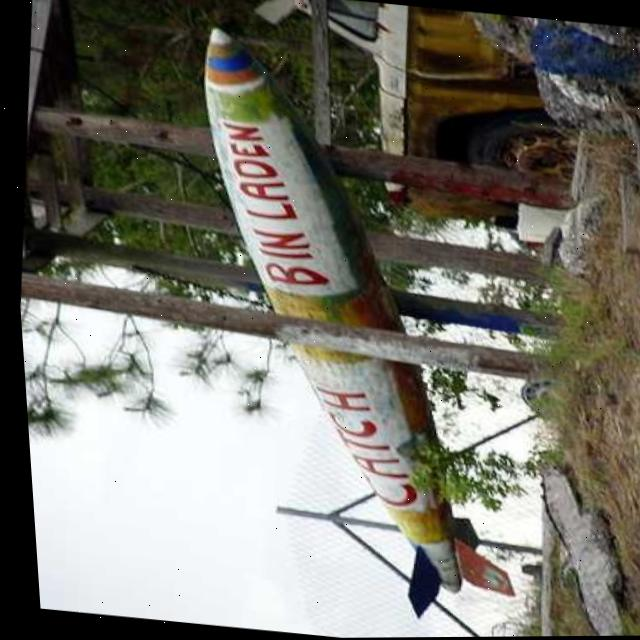missile: (139, 19, 552, 623)
